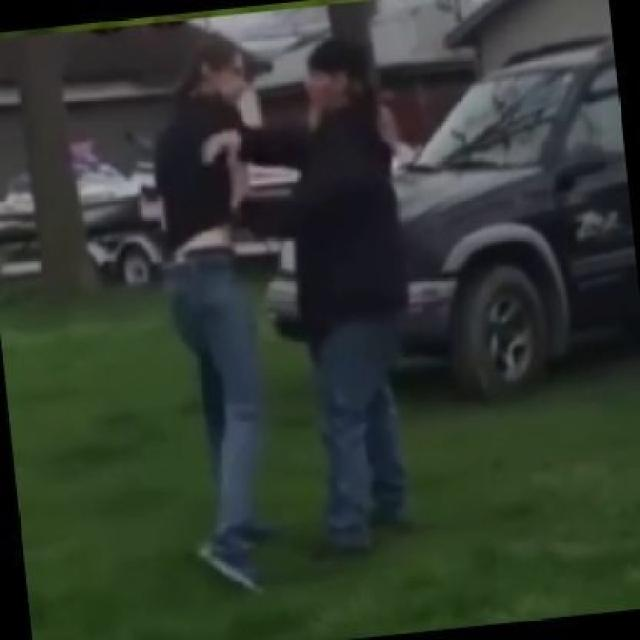fight: (160, 1, 423, 597)
